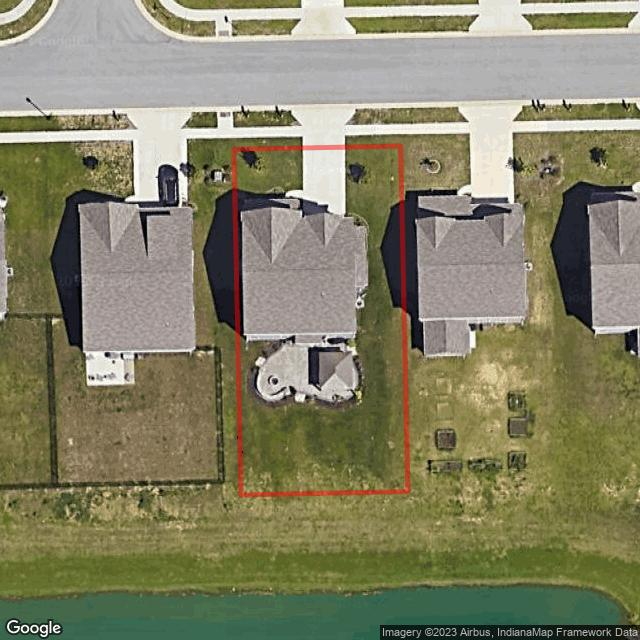Driveway: (284, 149, 345, 216)
Extra Driveway: (290, 109, 357, 145)
Extra Lawn: (233, 111, 301, 128), (345, 108, 403, 125), (232, 137, 302, 148), (345, 134, 403, 145)
Extra Sidewalk: (233, 126, 303, 138), (345, 124, 403, 136)
House: (241, 198, 368, 346)
Other: (256, 341, 360, 403)
